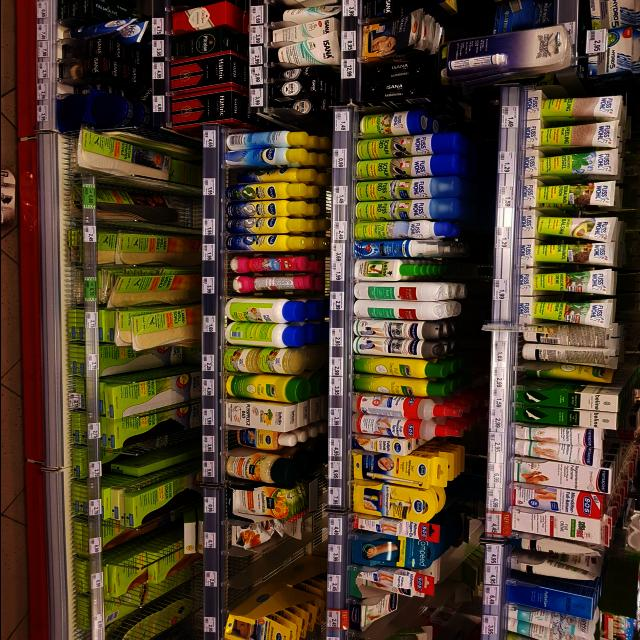empty_space: (228, 550, 288, 570), (230, 583, 282, 604)
